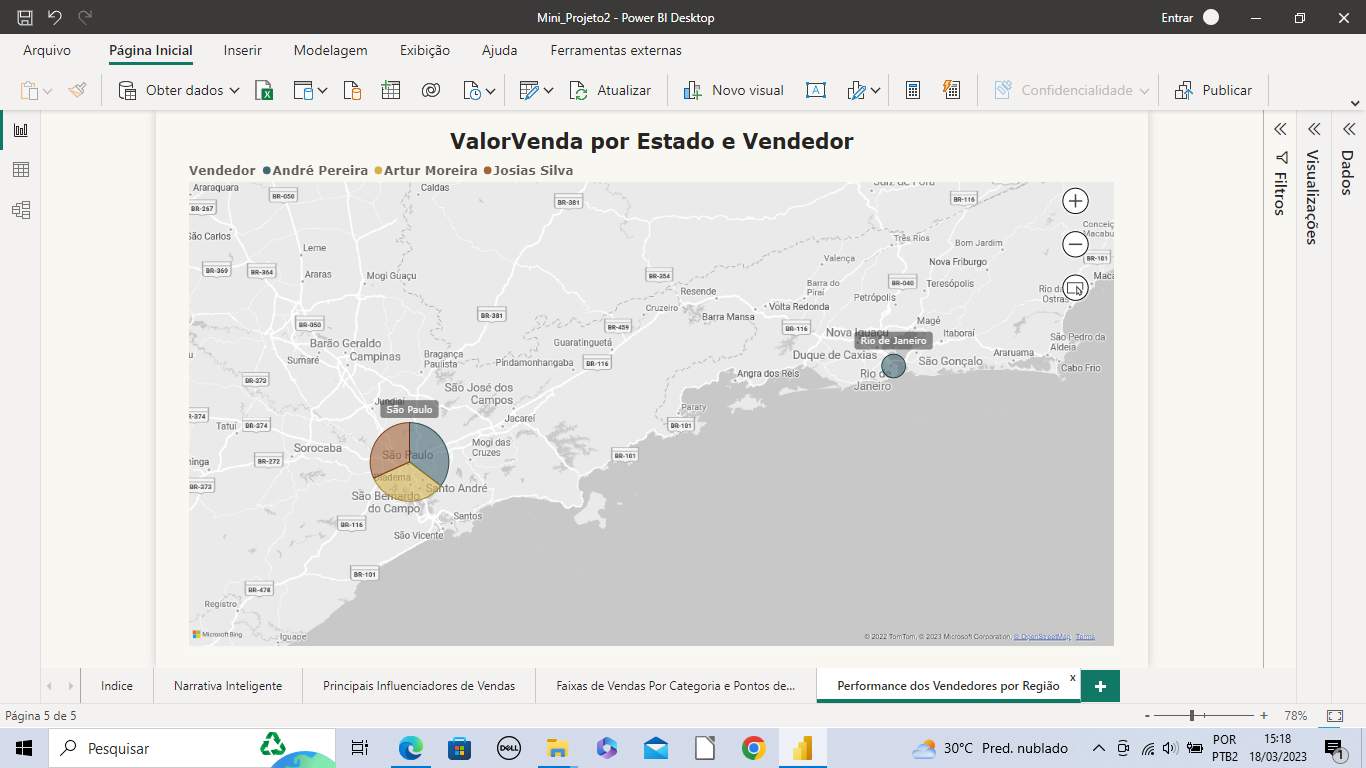

What the dashboard file says about the page in this screenshot:
{"tool":"powerbi","page":{"name":"Performance dos Vendedores por Região","canvas":[1280,720],"ordinal":4},"visuals":[{"type":"map","fields":{"Category":["Vendas.Estado"],"Series":["Vendas.Vendedor"],"Size":["Sum(Vendas.ValorVenda)"]},"box":[37.2,23.4,1204.3,673],"z":0}]}

Visuals, with their boxes on the page's 1280x720 design canvas (x1, y1, x2, y2). These are canvas units, not pixel positions in the 1366x768 screenshot, which may show the page scaled, cropped or inside an application window:
map - Vendas.Estado x Vendas.Vendedor: (x1=37, y1=23, x2=1242, y2=696)
